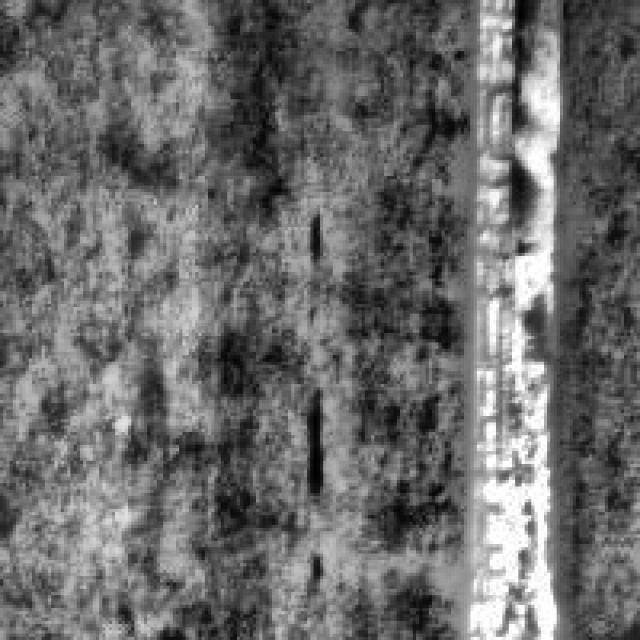Inclusion: (454, 0, 566, 634)
Patches: (291, 380, 333, 502)
